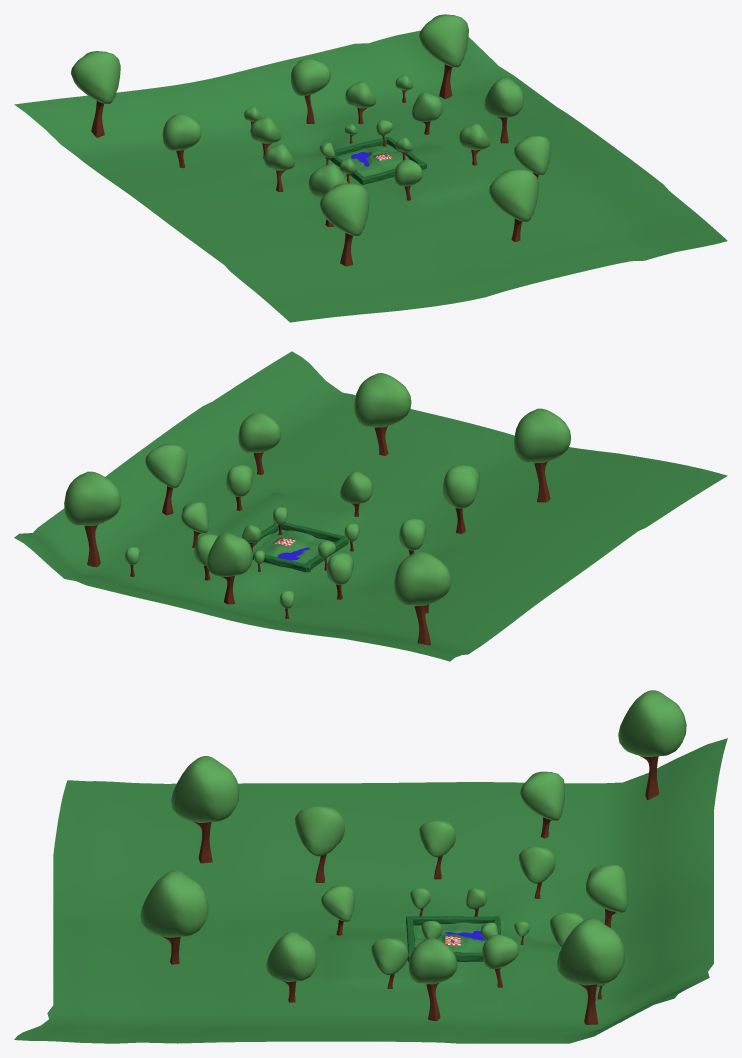
File: Picnicplain.fbx
3 renders of one model, top to bottom at view 1: azimuth 30°, elevation 25°; view 2: azimuth 150°, elevation 25°; view 3: azimuth 270°, elevation 25°, orthographic. The views are drawn at different scales.
Parts seen in each view (by area): view 1: Plane.002, Cube.026, Cube.025, Cube.024, Cube.023, Cube.022, Cube.021, Cube.020, Plane, Cube.019, Cube.018, Cube.013 (+5 smaller); view 2: Plane.002, Cube.025, Cube.024, Cube.026, Cube.023, Cube.021, Cube.022, Cube.019, Cube.018, Plane, Cube.015, Cube.017 (+4 smaller); view 3: Plane.002, Cube.026, Cube.024, Cube.025, Cube.023, Cube.018, Cube.022, Cube.019, Cube.020, Cube.021, Plane, Cube.014 (+6 smaller).
Part boxes in pixels (box(x1,y1,x2,y2)): Plane.002: box(14, 30, 727, 322); Cube.026: box(71, 51, 120, 137); Cube.025: box(419, 14, 468, 98); Cube.024: box(319, 183, 369, 266); Cube.023: box(489, 168, 538, 241); Cube.022: box(484, 77, 523, 143); Cube.021: box(291, 58, 330, 123); Cube.020: box(162, 113, 201, 168); Plane: box(323, 144, 409, 176); Cube.019: box(514, 135, 551, 179); Cube.018: box(308, 163, 347, 227); Cube.013: box(411, 92, 442, 134); Plane.002: box(14, 351, 727, 661); Cube.025: box(64, 471, 121, 567); Cube.024: box(514, 408, 570, 502); Cube.026: box(394, 551, 451, 645); Cube.023: box(354, 373, 411, 455); Cube.021: box(206, 532, 252, 604); Cube.022: box(145, 444, 187, 515); Cube.019: box(238, 412, 281, 474); Cube.018: box(442, 465, 480, 533); Plane: box(253, 529, 334, 574); Cube.015: box(340, 471, 373, 516); Cube.017: box(326, 553, 353, 599); Plane.002: box(14, 738, 727, 1043); Cube.026: box(618, 690, 686, 799); Cube.024: box(171, 756, 239, 863); Cube.025: box(557, 918, 625, 1024); Cube.023: box(140, 870, 208, 964); Cube.018: box(295, 806, 344, 882); Cube.022: box(408, 938, 457, 1021); Cube.019: box(266, 932, 317, 1002); Cube.020: box(520, 771, 565, 838); Cube.021: box(586, 864, 627, 927); Plane: box(413, 921, 504, 952); Cube.014: box(419, 820, 455, 879).
Size of the model in its own units: 2436 by 633 by 2757.
